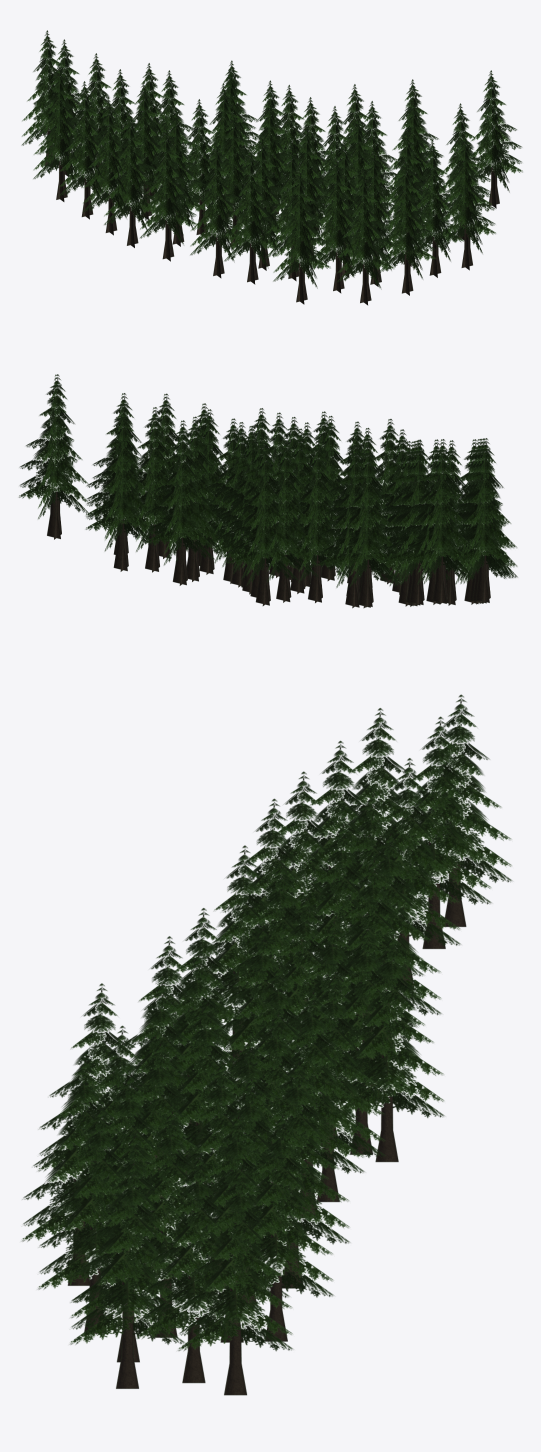
Rendered from lowpoly_trees_2_a.glb.
3 views of the same model, one above another, from view 1: azimuth 30°, elevation 25°; view 2: azimuth 150°, elevation 25°; view 3: azimuth 270°, elevation 25° (orthographic). The views are drawn at different scales.
Visible parts, largest first — view 1: fir_tree.png__; view 2: fir_tree.png__; view 3: fir_tree.png__.
Part boxes in pixels (left/top/right/bottom): fir_tree.png__: left=21, top=30, right=522, bottom=305; fir_tree.png__: left=19, top=374, right=517, bottom=608; fir_tree.png__: left=22, top=694, right=512, bottom=1395.
Size of the model in its own units: 73.02 by 38.92 by 40.81.
1 material, 1 textured.
